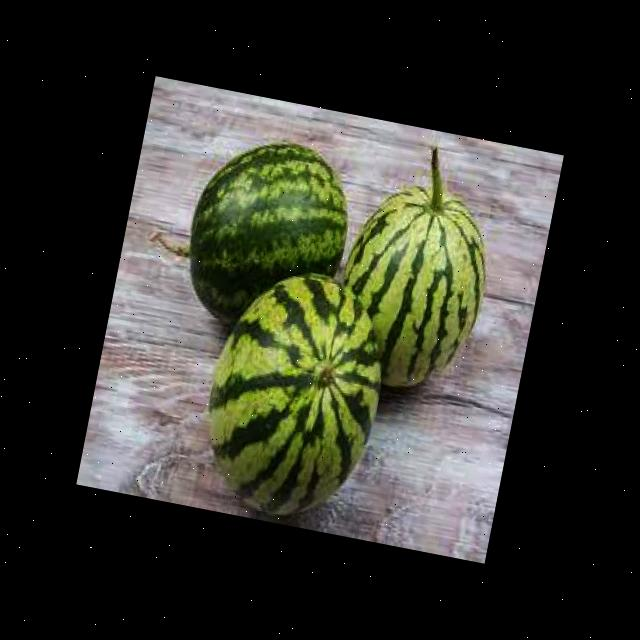watermelon: (188, 256, 400, 532), (175, 127, 362, 348), (323, 172, 502, 402)
